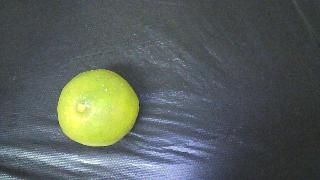LOCAL: (57, 69, 139, 147)
